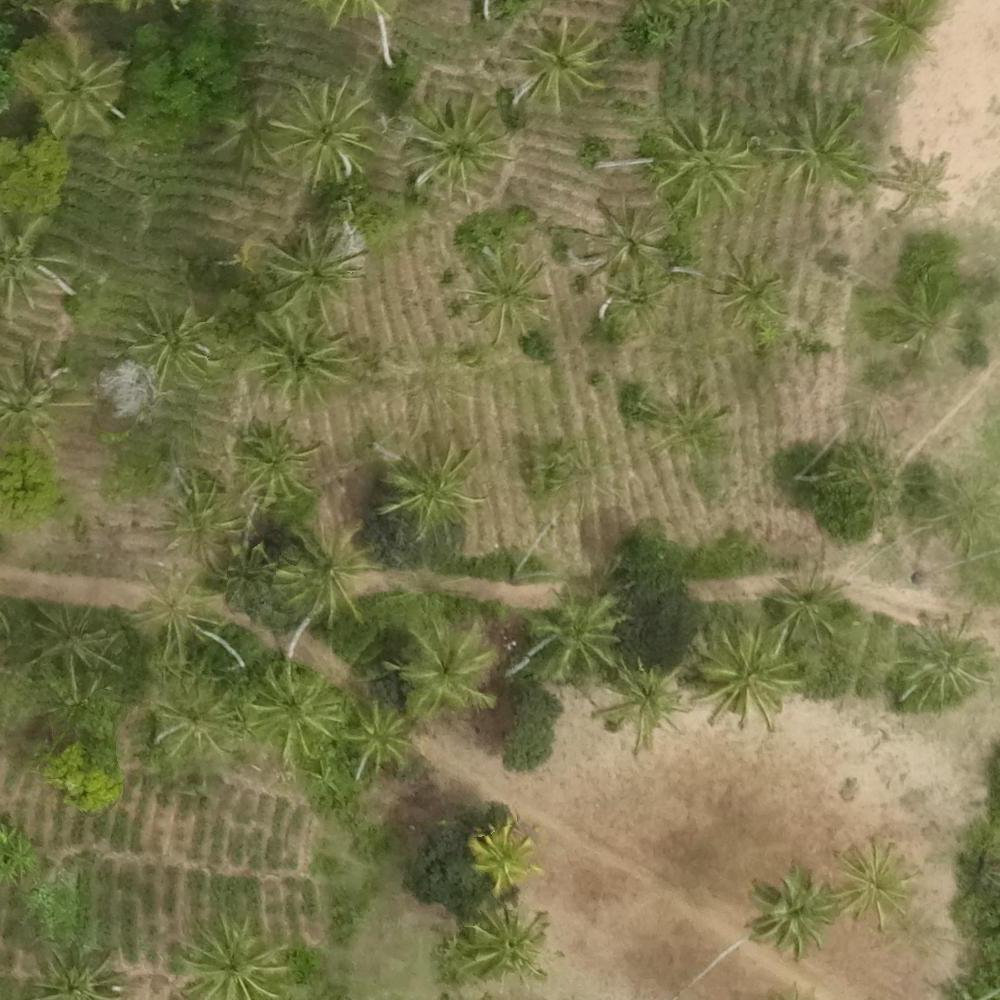Palm: (649, 105, 757, 207), (168, 912, 292, 1000), (398, 99, 508, 198), (252, 222, 357, 317), (251, 313, 355, 408), (697, 626, 795, 725), (503, 11, 606, 105), (277, 517, 374, 616), (272, 81, 373, 174), (398, 617, 494, 711), (769, 104, 868, 192), (22, 36, 116, 127), (524, 589, 616, 679), (125, 297, 218, 385), (249, 664, 337, 756), (900, 611, 986, 704), (460, 247, 550, 335), (385, 446, 480, 529), (598, 660, 687, 748), (752, 864, 839, 954), (835, 838, 916, 928), (149, 676, 235, 759), (152, 484, 237, 567), (464, 904, 551, 983), (233, 421, 317, 501), (585, 199, 667, 275), (341, 700, 419, 772), (467, 819, 539, 893), (771, 565, 841, 634), (599, 268, 671, 332), (716, 255, 783, 321)
